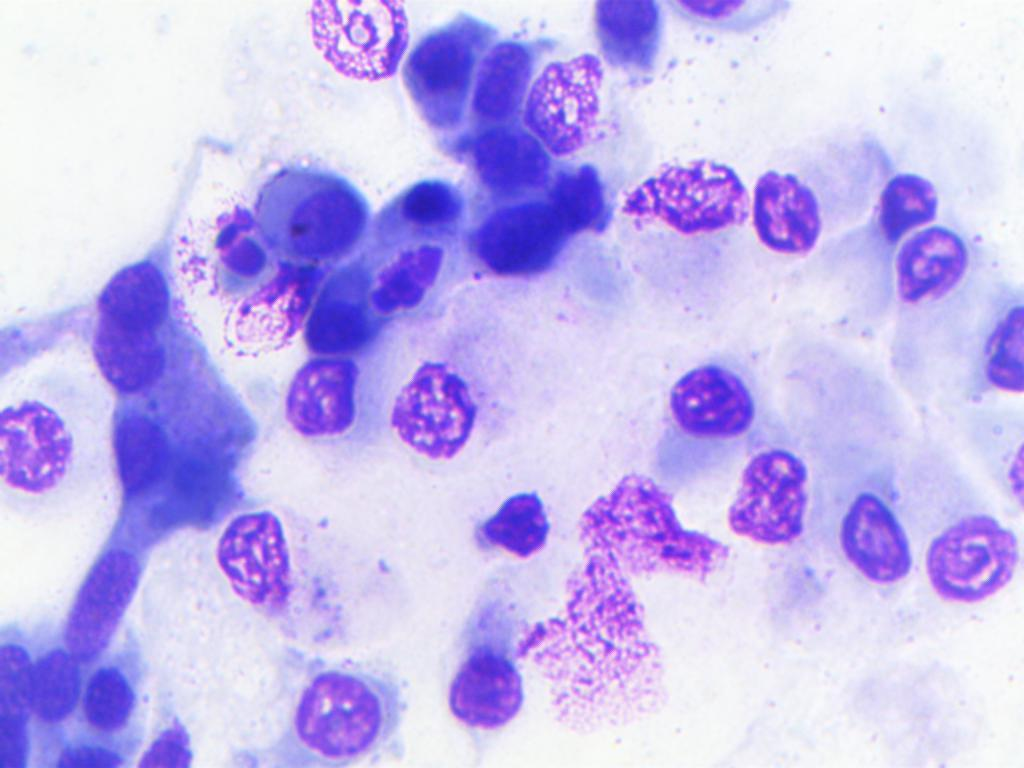epithelial: (468, 149, 611, 284), (429, 559, 532, 735), (245, 150, 373, 269), (619, 136, 751, 240), (382, 356, 499, 470), (196, 499, 305, 619), (872, 212, 995, 315), (277, 665, 410, 758), (510, 45, 615, 161), (919, 499, 1019, 604), (394, 4, 477, 129), (720, 440, 813, 549), (826, 485, 919, 594), (79, 237, 186, 328), (268, 353, 368, 449), (304, 0, 413, 86), (849, 147, 946, 241), (446, 112, 550, 194), (745, 164, 829, 265), (79, 313, 182, 394), (656, 364, 759, 444), (363, 159, 468, 235), (110, 406, 177, 515), (19, 629, 87, 731), (471, 24, 537, 128), (0, 397, 71, 491), (980, 280, 1024, 412), (302, 279, 378, 355), (79, 656, 145, 736), (47, 740, 119, 768)
neutrophil: (194, 187, 273, 297), (356, 227, 450, 319), (469, 489, 550, 569)
